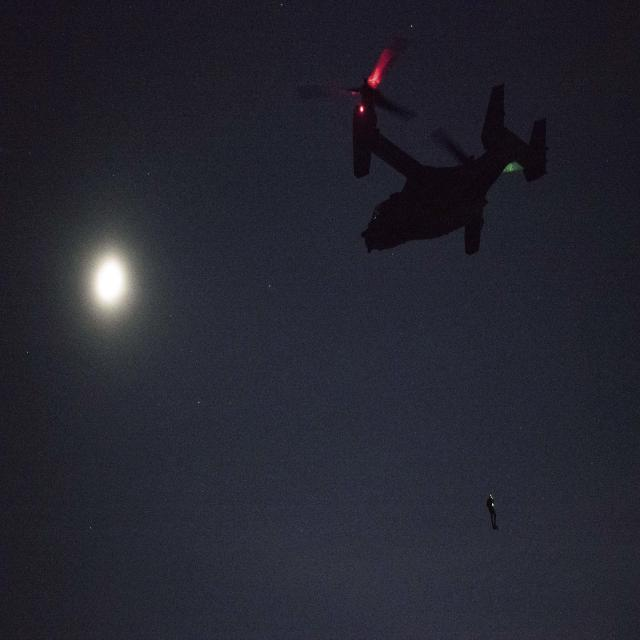MIL_Plane: (296, 38, 550, 255)
